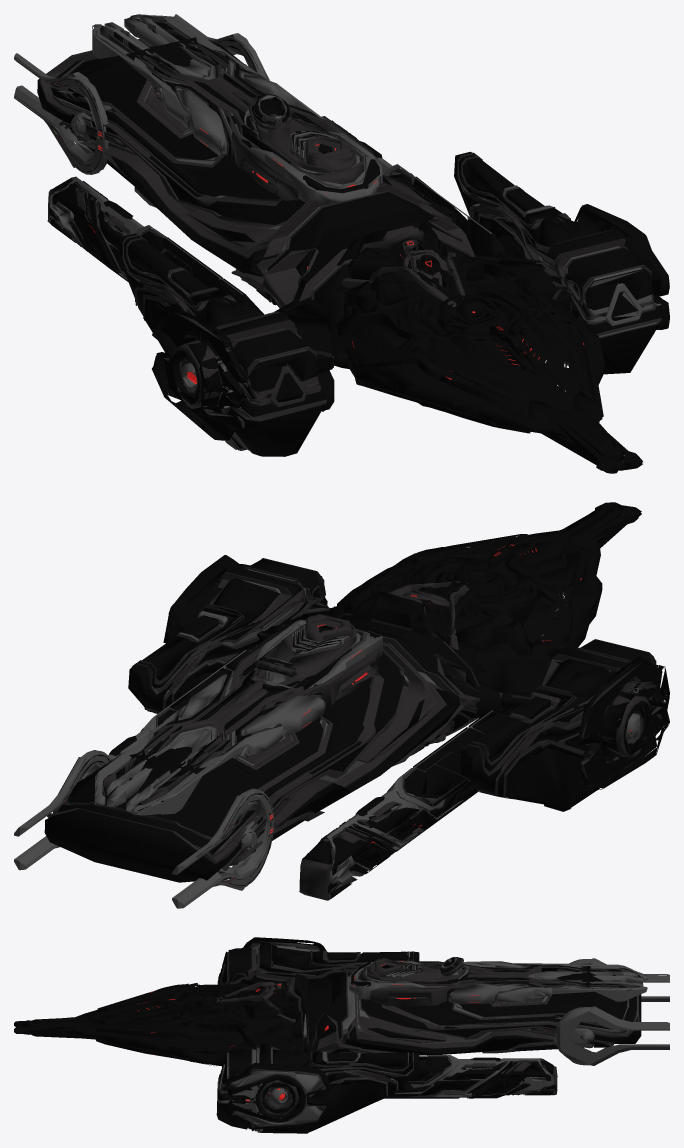
The model's file is mothership.glb.
3 views of the same model, one above another, from view 1: azimuth 30°, elevation 25°; view 2: azimuth 150°, elevation 25°; view 3: azimuth 270°, elevation 25° (orthographic). The views are drawn at different scales.
Visible parts, largest first — view 1: AS_Epic_Sci-Fi_Base3; view 2: AS_Epic_Sci-Fi_Base3; view 3: AS_Epic_Sci-Fi_Base3.
Boxes of the visible parts, bbox=[...] form: AS_Epic_Sci-Fi_Base3: bbox=[14, 14, 669, 473]; AS_Epic_Sci-Fi_Base3: bbox=[14, 502, 669, 908]; AS_Epic_Sci-Fi_Base3: bbox=[14, 937, 669, 1133].
Bounding box in the file's own units: 25.71 × 10.75 × 52.16.
8 materials, 4 textured.
